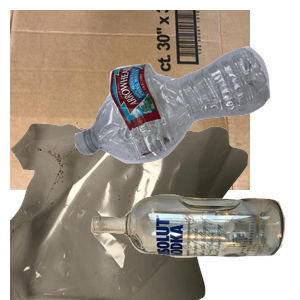cardboard: (10, 10, 250, 190)
glass: (88, 192, 300, 300)
plastic: (72, 44, 300, 200)
trash: (10, 120, 250, 300)
